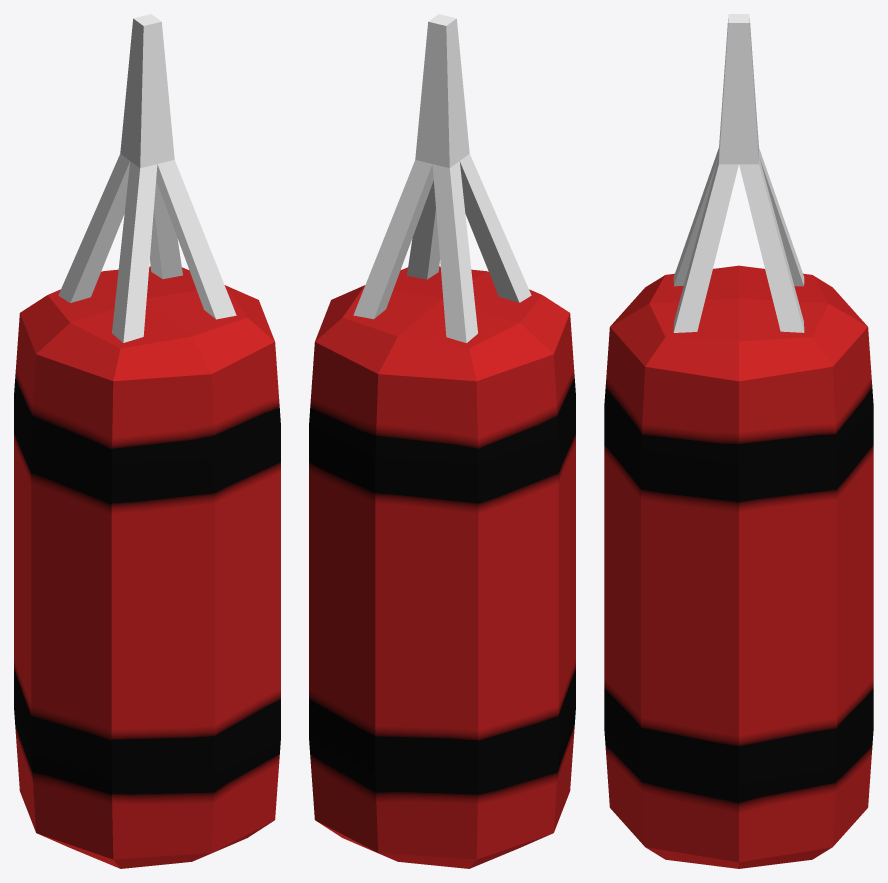
Rendered from PunchingBagBig.fbx.
The picture shows the model from 3 angles, left to right: view 1: azimuth 30°, elevation 25°; view 2: azimuth 150°, elevation 25°; view 3: azimuth 270°, elevation 25°; orthographic projection.
Parts seen in each view (by area): view 1: Cube.008; view 2: Cube.008; view 3: Cube.008.
Boxes of the visible parts, x1=… form: Cube.008: x1=14, y1=14, x2=280, y2=868; Cube.008: x1=309, y1=14, x2=575, y2=868; Cube.008: x1=604, y1=14, x2=873, y2=868.
Bounding box in the file's own units: 183 × 614 × 183.
